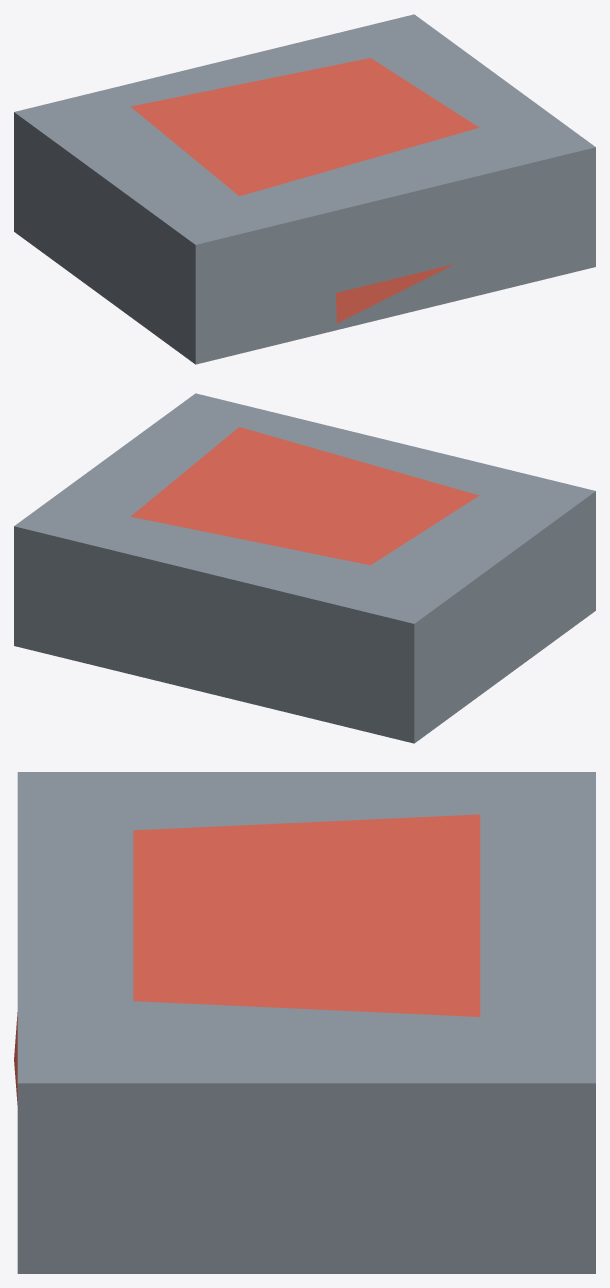
File: SU_KorshunGunship_LOD1.glb
The picture shows the model from 3 angles, top to bottom: view 1: azimuth 30°, elevation 25°; view 2: azimuth 150°, elevation 25°; view 3: azimuth 270°, elevation 25°; orthographic projection. The views are drawn at different scales.
Visible parts, largest first — view 1: EntranceGate; view 2: EntranceGate; view 3: EntranceGate.
Part boxes in pixels (bbox=[...]): EntranceGate: bbox=[14, 14, 595, 364]; EntranceGate: bbox=[14, 393, 595, 743]; EntranceGate: bbox=[14, 772, 595, 1273].
Size of the model in its own units: 700 by 221 by 553.
